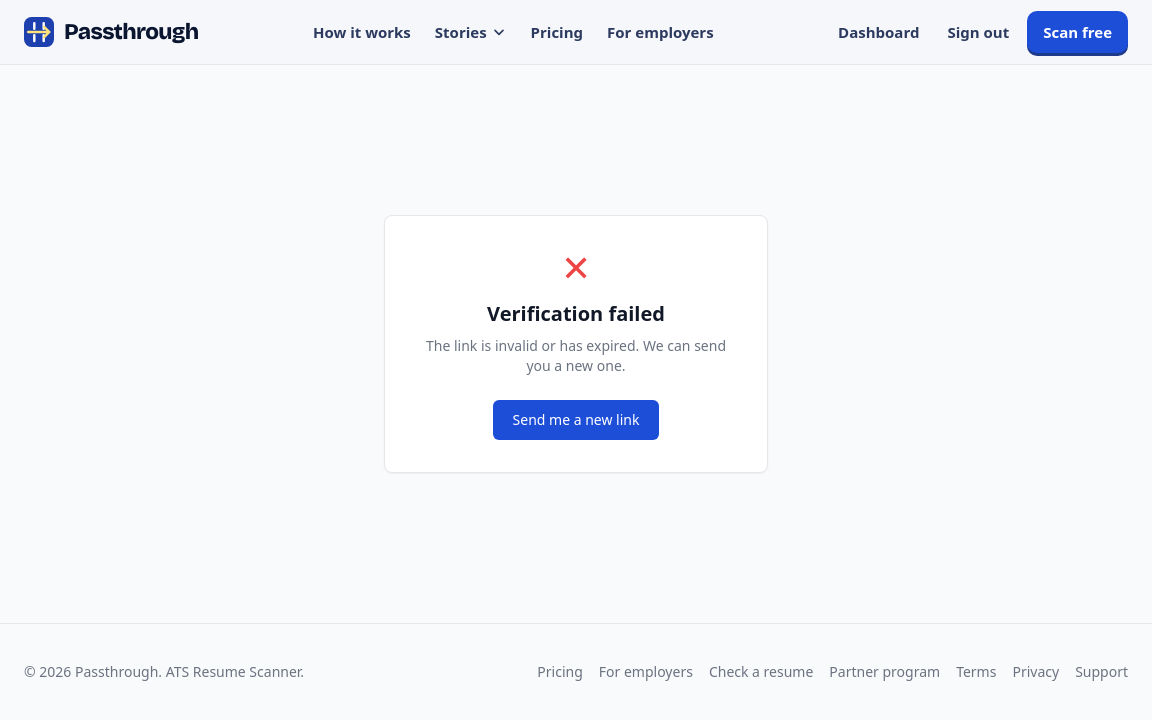
it: VerifyEmail › a failed resend shows the server message
Click the button "Send me a new link" at coordinates (576, 420), box [493,400,660,440]
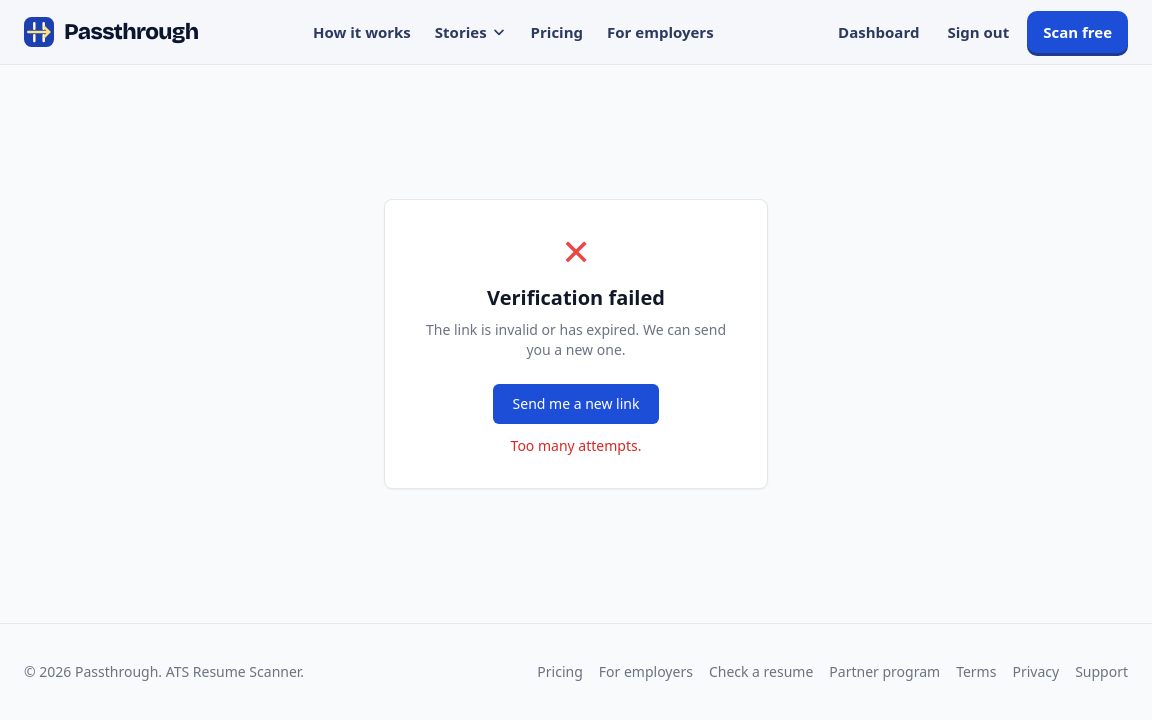
expect the message shows "Too many attempts": met, box [511,436,641,455]
